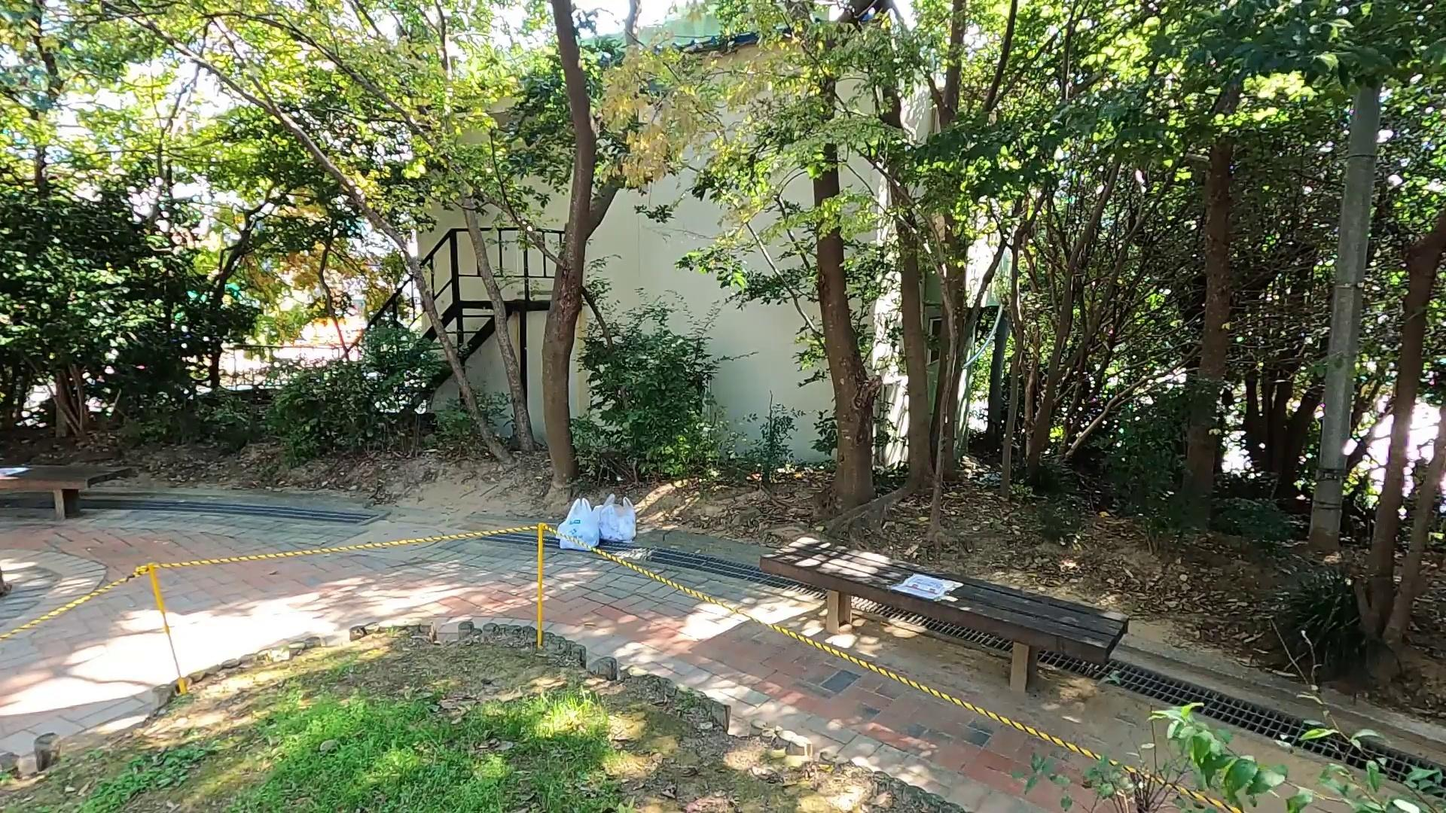trash: (559, 495, 602, 550), (596, 492, 639, 543)
